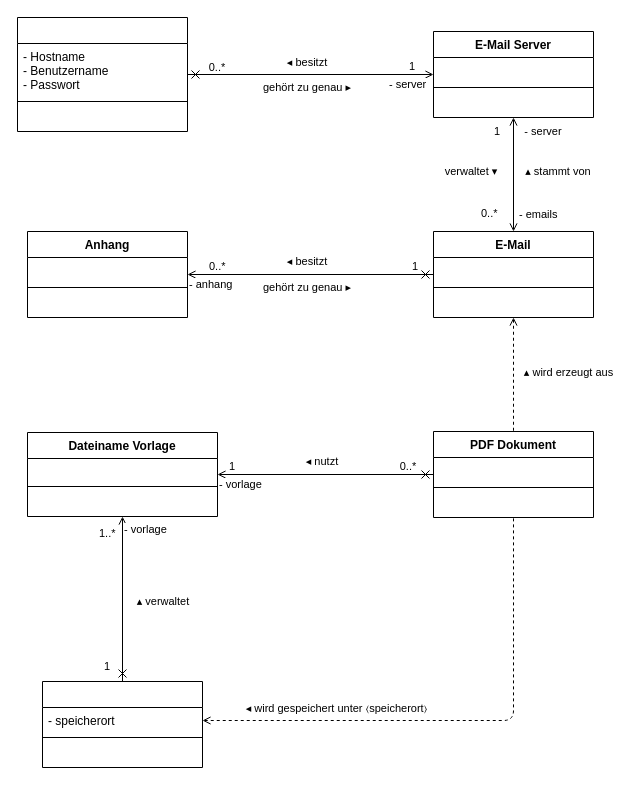
The diagram is 630 pixels wide and 788 high, and some of its shapes have lost their labels. Each missing label, with the box of its shape:
Anmeldeinformation: (16, 16, 188, 132)
Konfiguration: (42, 680, 202, 768)
